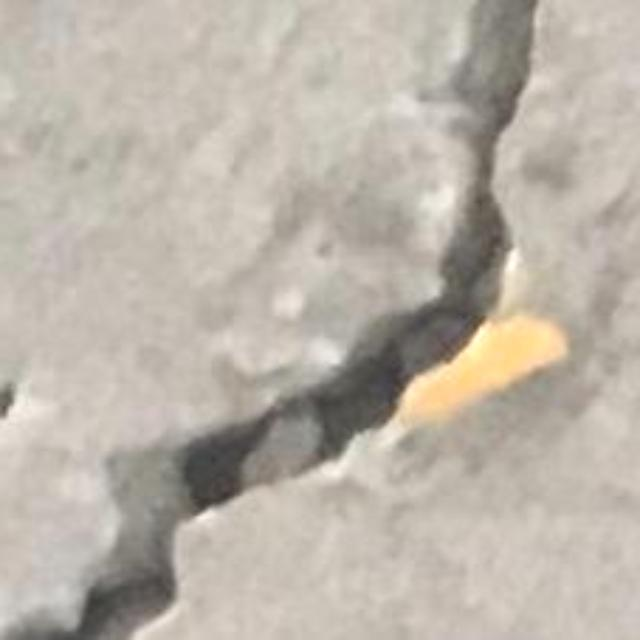crack: (8, 0, 537, 639), (0, 381, 15, 420)
